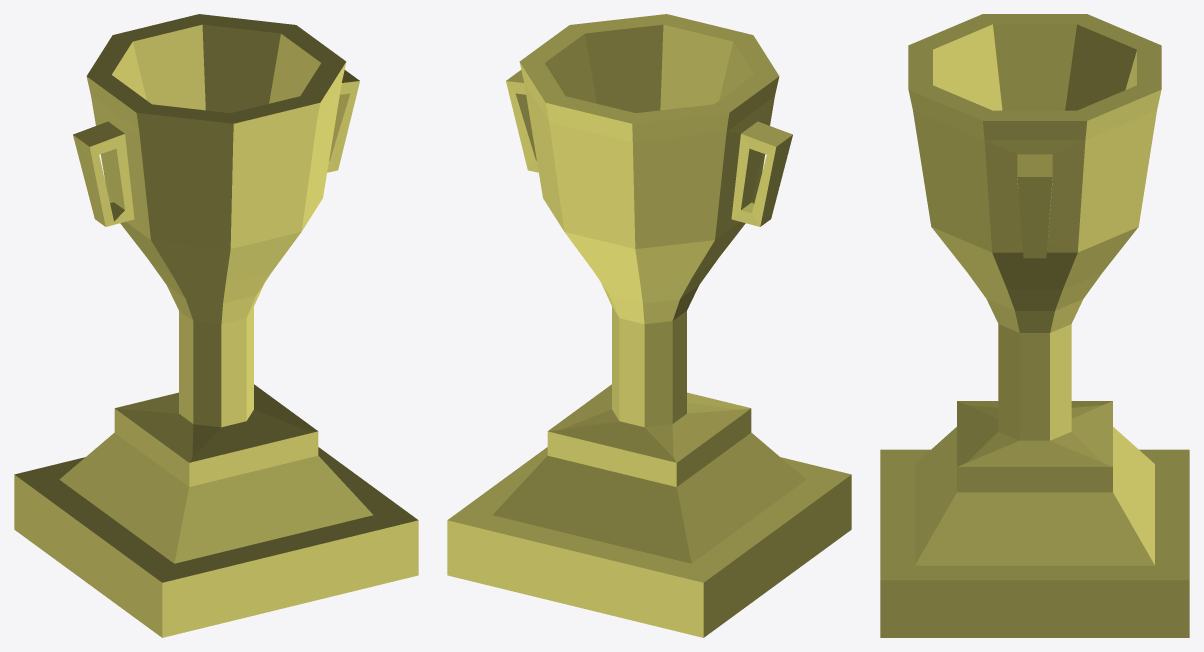
The model's file is Trophy 2.fbx.
The picture shows the model from 3 angles, left to right: view 1: azimuth 30°, elevation 25°; view 2: azimuth 150°, elevation 25°; view 3: azimuth 270°, elevation 25°; orthographic projection. The views are drawn at different scales.
Parts seen in each view (by area): view 1: Node 0; view 2: Node 0; view 3: Node 0.
Part boxes in pixels (box(x1,y1,x2,y2)): Node 0: box(14, 14, 418, 637); Node 0: box(447, 14, 851, 637); Node 0: box(880, 14, 1189, 637).
Bounding box in the file's own units: 0.2344 × 0.4226 × 0.2473.
